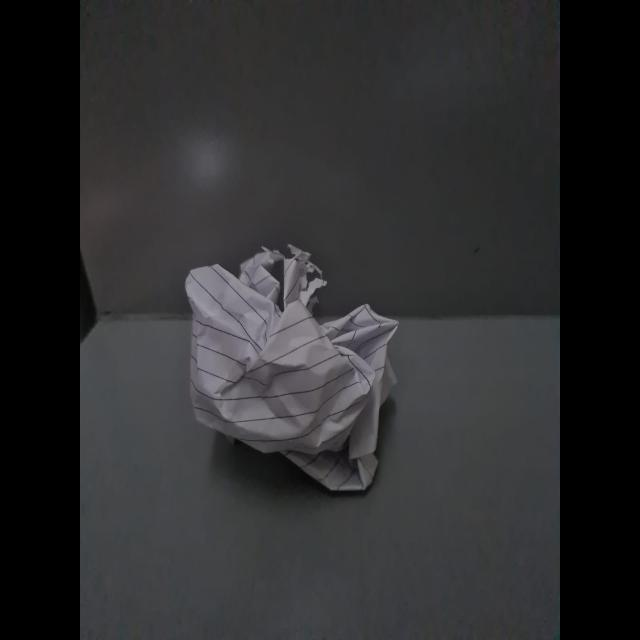scrap_paper: (177, 247, 421, 499)
